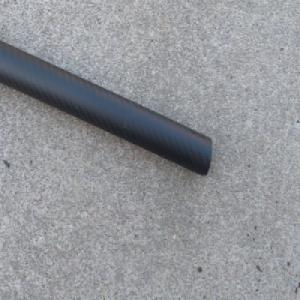LuggagePart: (0, 34, 213, 179)
